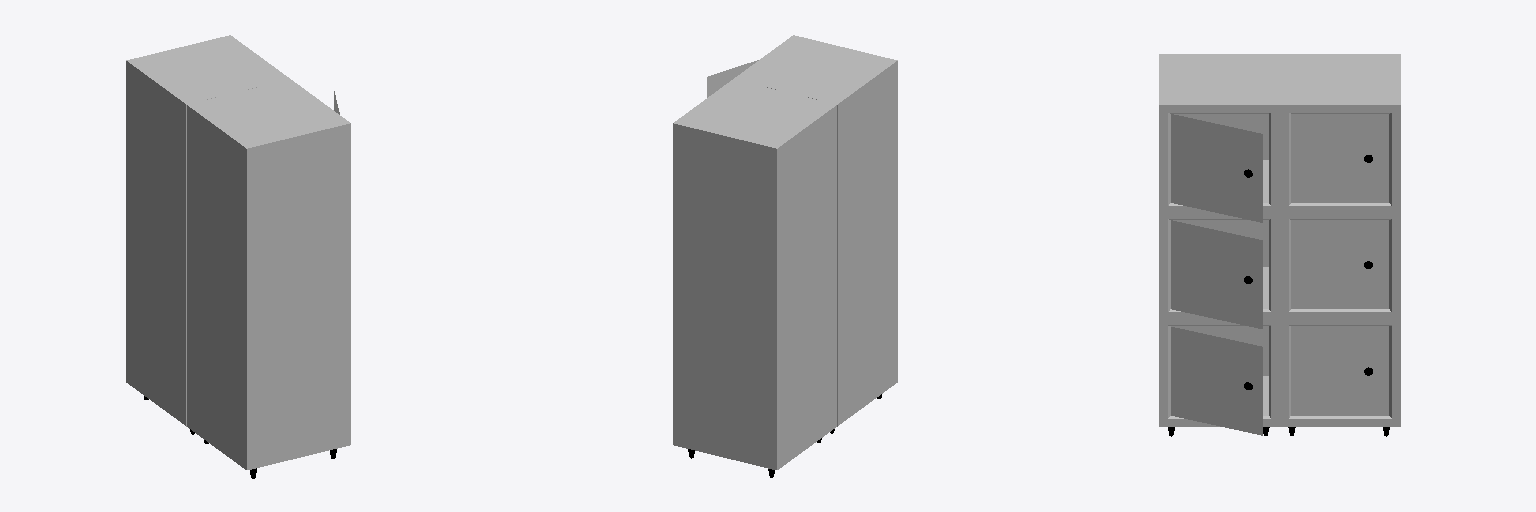
Rendered from locker_test.obj.
3 views of the same model, side by side, from view 1: azimuth 30°, elevation 25°; view 2: azimuth 150°, elevation 25°; view 3: azimuth 270°, elevation 25° (orthographic).
Visible parts, largest first — view 1: Cube.005, Cube, Cube.003, Cube.004, Cube.001, Cube.002; view 2: Cube.004, Cube.001, Cube.002, Cube.005, Cube, Cube.003; view 3: Cube.005, Cube.004, Cube, Cube.002, Cube.003, Cube.001.
Part boxes in pixels (x1,y1,x2,y2): Cube.005: (187,79,350,255); Cube: (187,318,350,469); Cube.003: (187,212,350,361); Cube.004: (126,35,289,212); Cube.001: (126,274,186,426); Cube.002: (126,169,186,316); Cube.004: (673,79,836,257); Cube.001: (673,318,836,469); Cube.002: (673,212,836,361); Cube.005: (707,35,897,211); Cube: (837,273,897,426); Cube.003: (837,170,897,316); Cube.005: (1159,54,1279,222); Cube.004: (1280,54,1400,213); Cube: (1159,267,1279,435); Cube.002: (1280,211,1400,319); Cube.003: (1159,160,1279,328); Cube.001: (1280,320,1400,426).
Size of the model in its own units: 2.66 by 6.17 by 4.